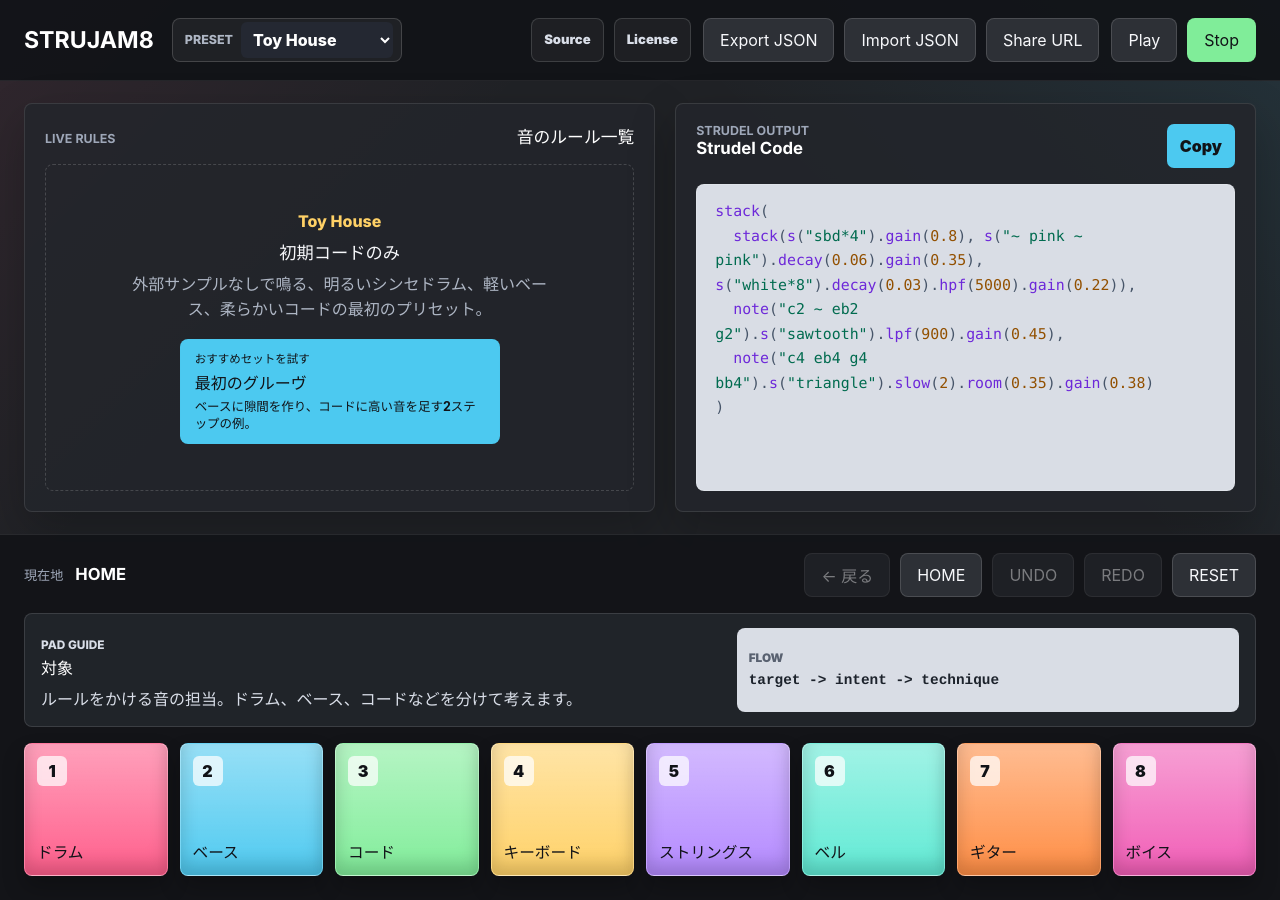
App audio recovery › shows Retry after a start failure and recovers on the next click
What coordinates should you click on to do the following:
click the button with aria-label "Start Strudel audio preview"
I would click on:
 (1144, 40)
Its box is [1111,18,1177,62].
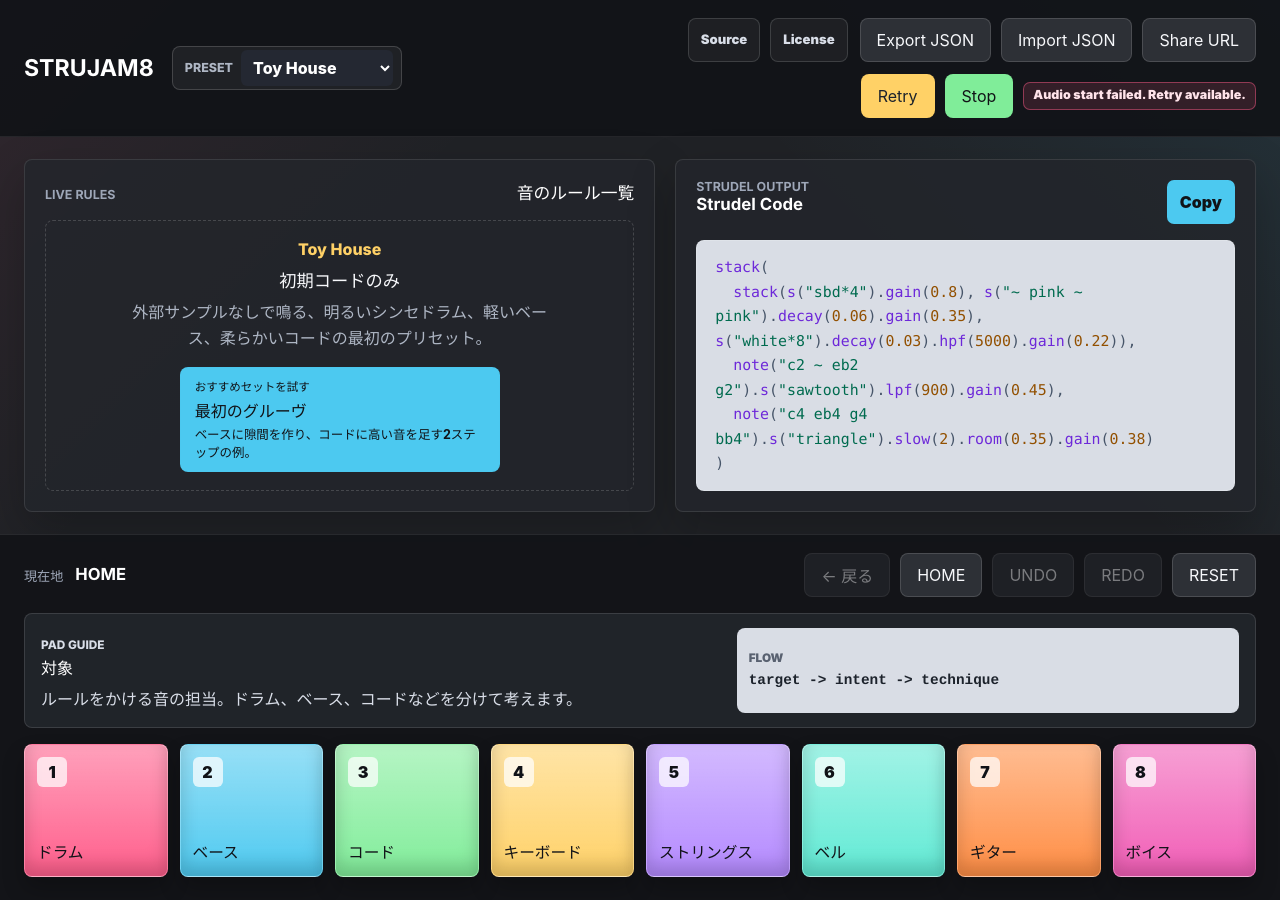
Expected: the button with aria-label "Retry Strudel audio preview" is shown
Expected: the text "Audio start failed. Retry available." is shown, [1023,82,1256,110]
What coordinates should you click on to do the following:
click the button with aria-label "Retry Strudel audio preview"
I would click on:
 (898, 96)
Its box is [861,74,935,118].
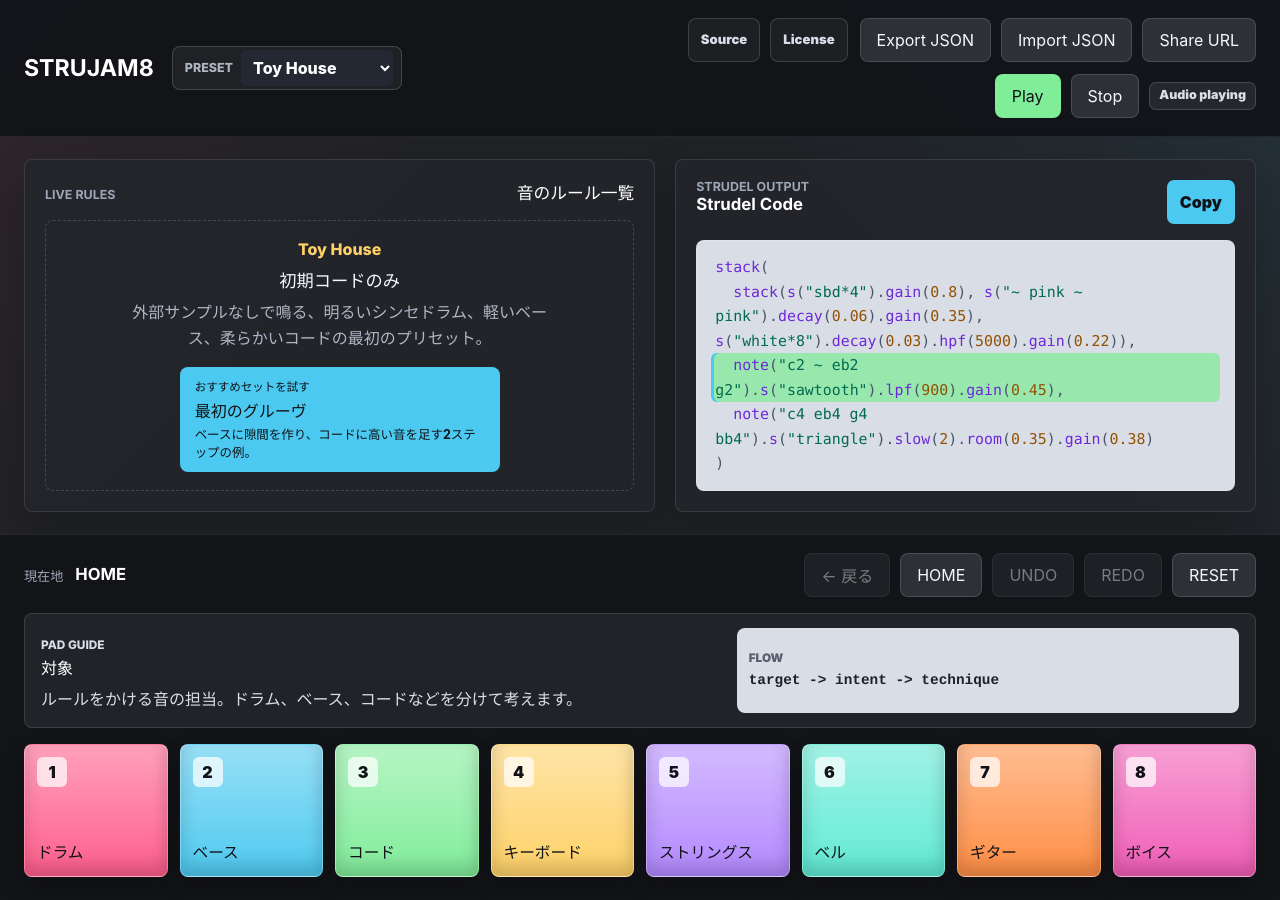
Expected: the text "Audio playing" is shown, [1149,82,1256,110]
Expected: the button with aria-label "Start Strudel audio preview" is shown, [995,74,1060,118]
